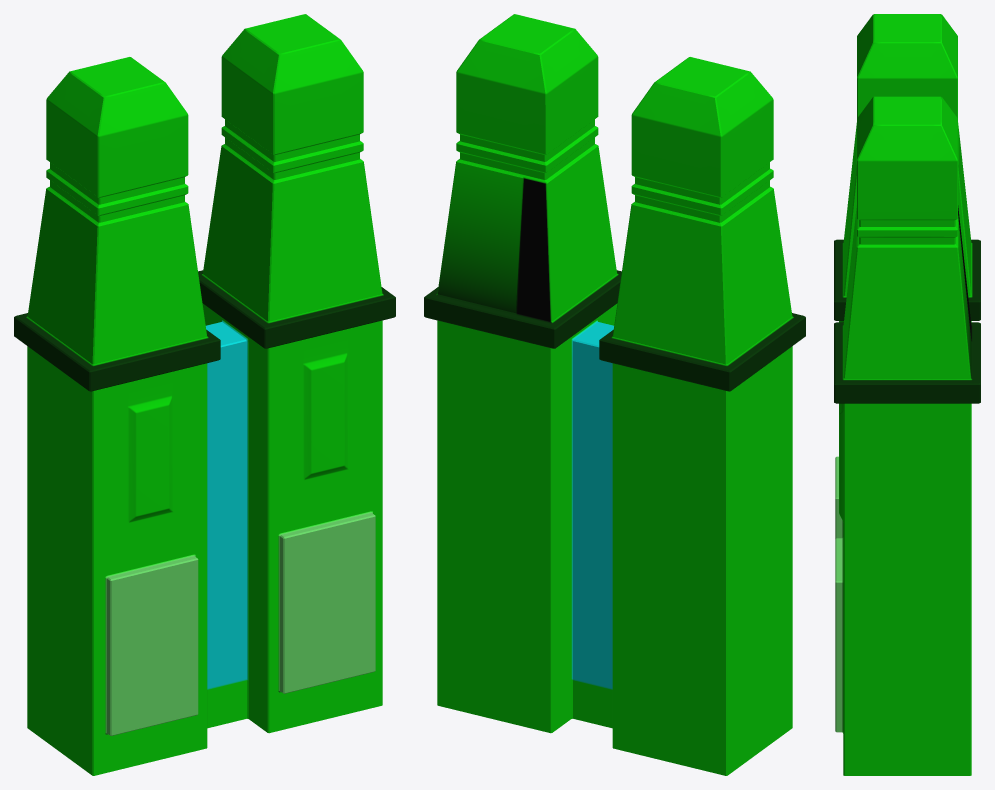
3 renders of one model, left to right at view 1: azimuth 30°, elevation 25°; view 2: azimuth 150°, elevation 25°; view 3: azimuth 270°, elevation 25°, orthographic. The views are drawn at different scales.
Parts seen in each view (by area): view 1: SX246; view 2: SX246; view 3: SX246.
Part boxes in pixels (x1,y1,x2,y2): SX246: (14,14,395,775); SX246: (424,14,805,775); SX246: (834,14,980,775).
Size of the model in its own units: 1.61 by 3.32 by 0.6926.
